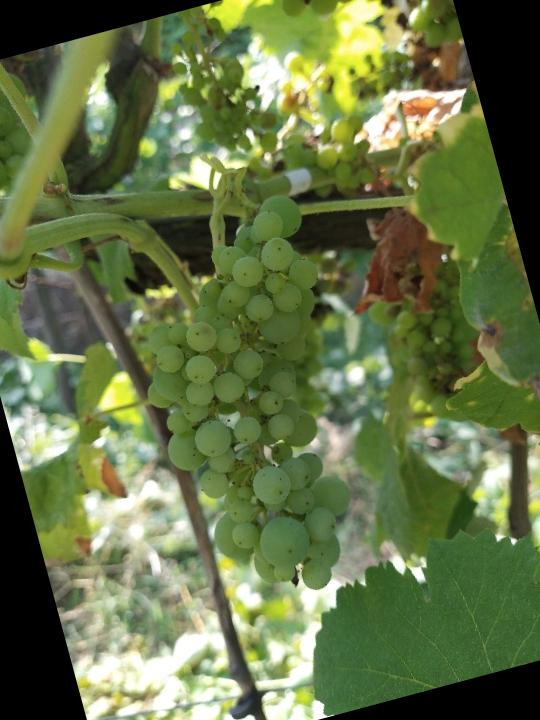grape: (106, 189, 400, 617)
